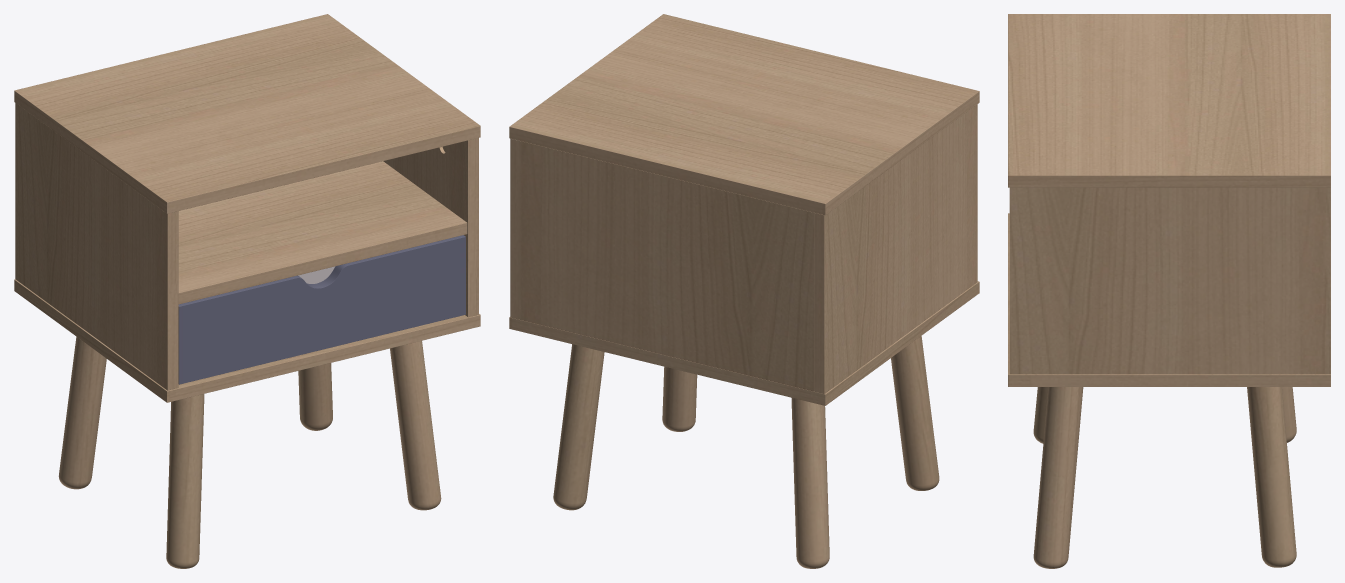
File: B07RPZSM4W.glb
3 views of the same model, side by side, from view 1: azimuth 30°, elevation 25°; view 2: azimuth 150°, elevation 25°; view 3: azimuth 270°, elevation 25° (orthographic). The views are drawn at different scales.
Visible parts, largest first — view 1: B07RPZSM4W; view 2: B07RPZSM4W; view 3: B07RPZSM4W.
Part boxes in pixels (box(x1,y1,x2,y2)): B07RPZSM4W: box(14, 14, 480, 568); B07RPZSM4W: box(509, 14, 979, 568); B07RPZSM4W: box(1008, 14, 1330, 568).
Size of the model in its own units: 0.45 by 0.53 by 0.38.
1 material, 1 textured.
